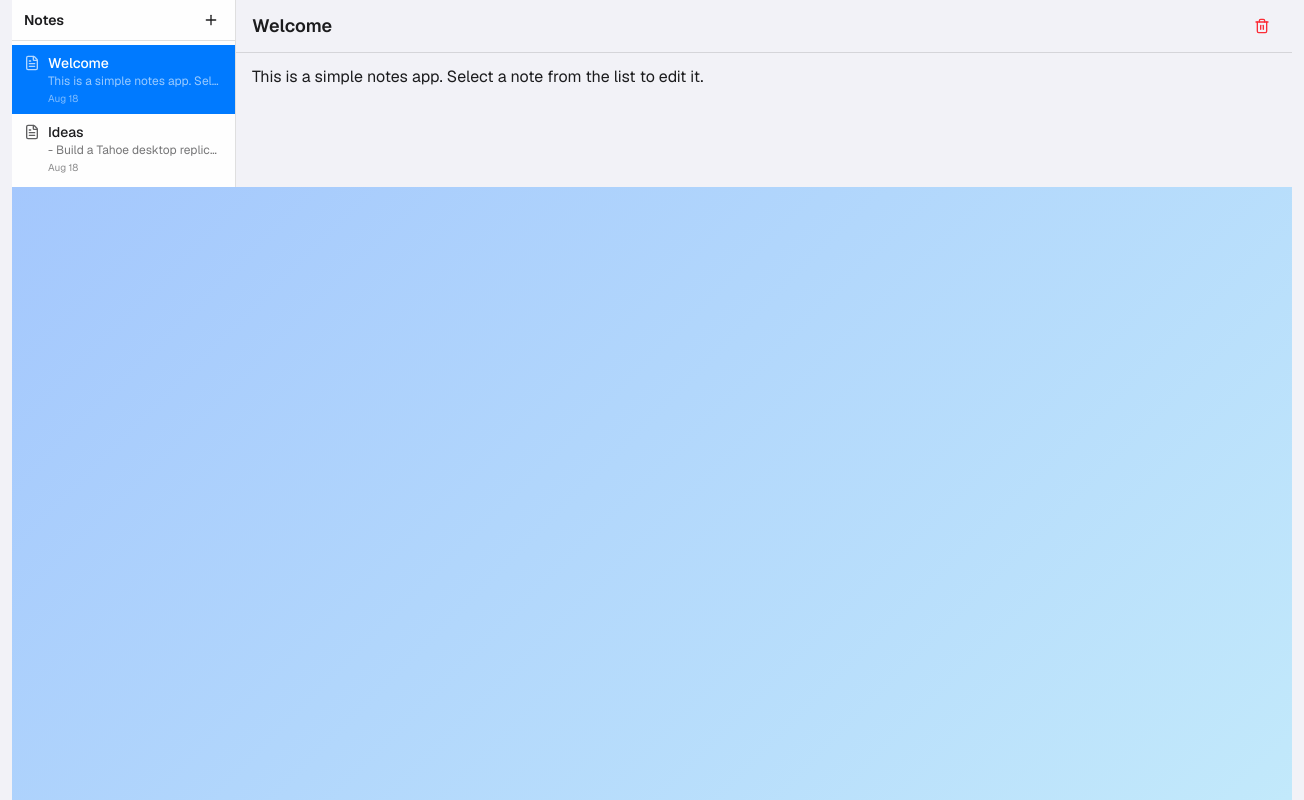
Test: Notes › selects a note when clicked in the list
Click the button with test id "notes-item-note-2": (124, 148) [12,114,235,183]
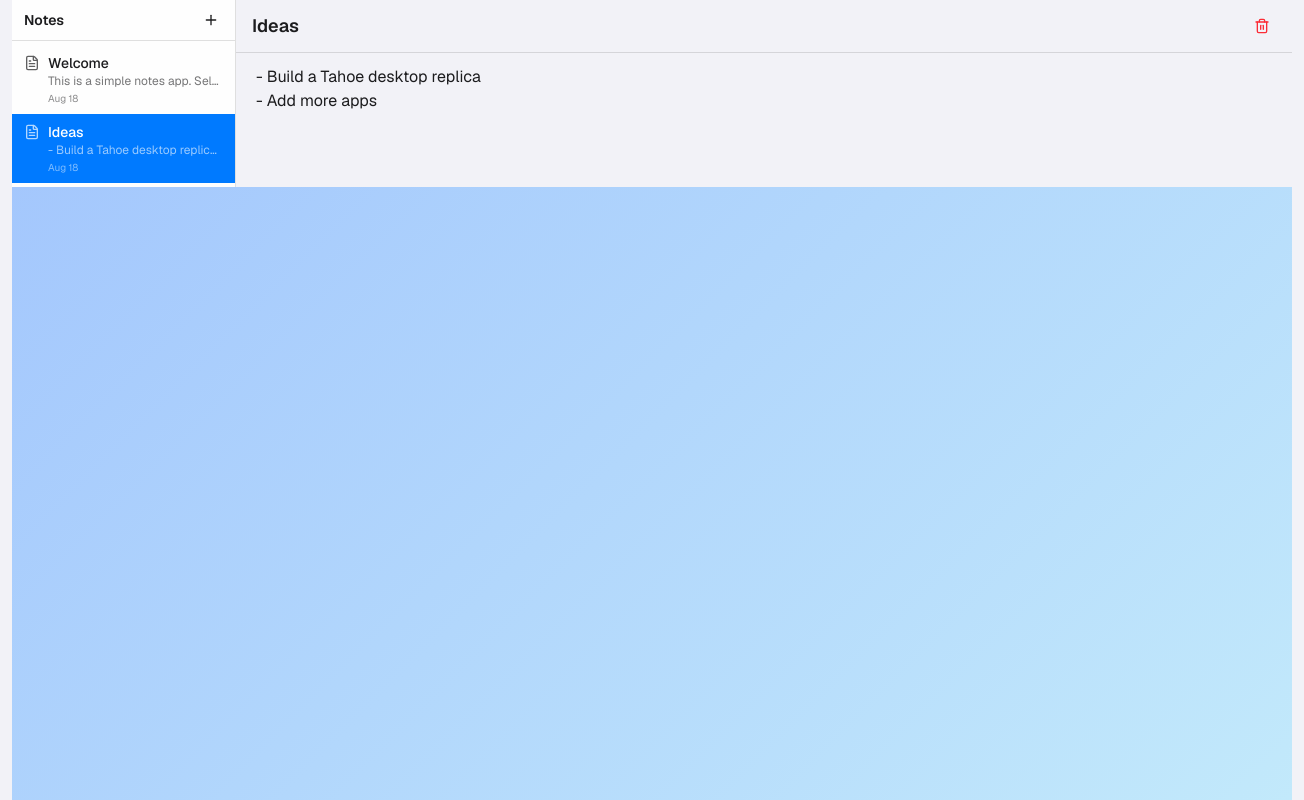
Result: the field with test id "notes-title" holds "Ideas" at [252,12,1240,40]
